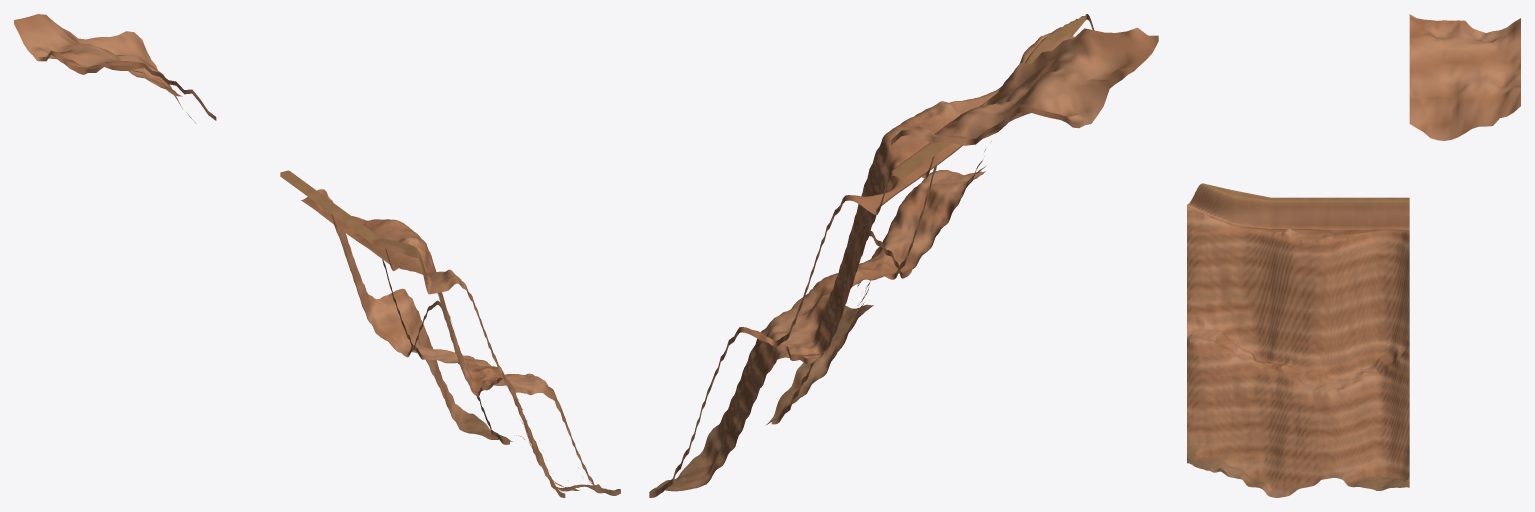
File: terrain-024.glb
The picture shows the model from 3 angles, left to right: view 1: azimuth 30°, elevation 25°; view 2: azimuth 150°, elevation 25°; view 3: azimuth 270°, elevation 25°; orthographic projection. The views are drawn at different scales.
Parts seen in each view (by area): view 1: terrain-024; view 2: terrain-024; view 3: terrain-024.
Part boxes in pixels (x1,y1,x2,y2): terrain-024: (14, 14, 620, 497); terrain-024: (649, 14, 1158, 497); terrain-024: (1187, 14, 1520, 497).
Bounding box in the file's own units: 384 × 438 × 384.
